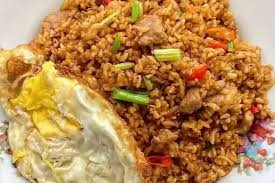Nasi goreng: (79, 0, 274, 178)
Telur ceplok: (0, 48, 151, 183)
